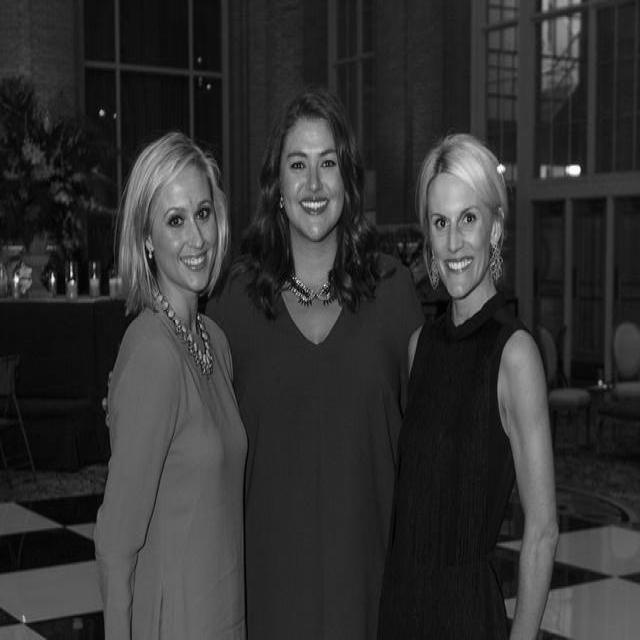person: (202, 111, 428, 630), (380, 132, 560, 640), (89, 130, 258, 640)
